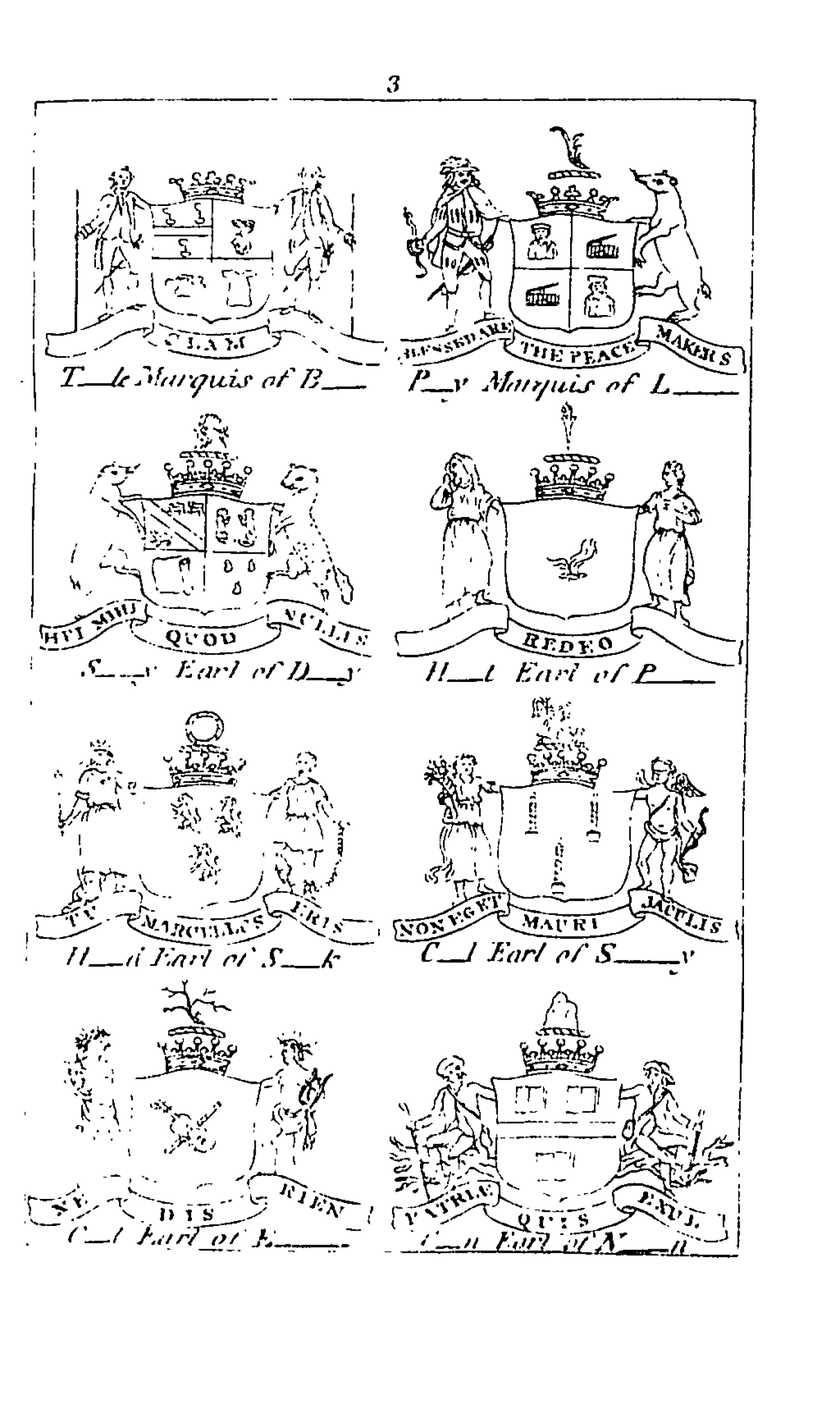coat_of_arms: (391, 124, 754, 415), (388, 976, 734, 1267), (395, 687, 740, 977), (34, 409, 385, 693), (40, 974, 374, 1270), (385, 421, 746, 693), (46, 131, 389, 407), (40, 700, 371, 979)
